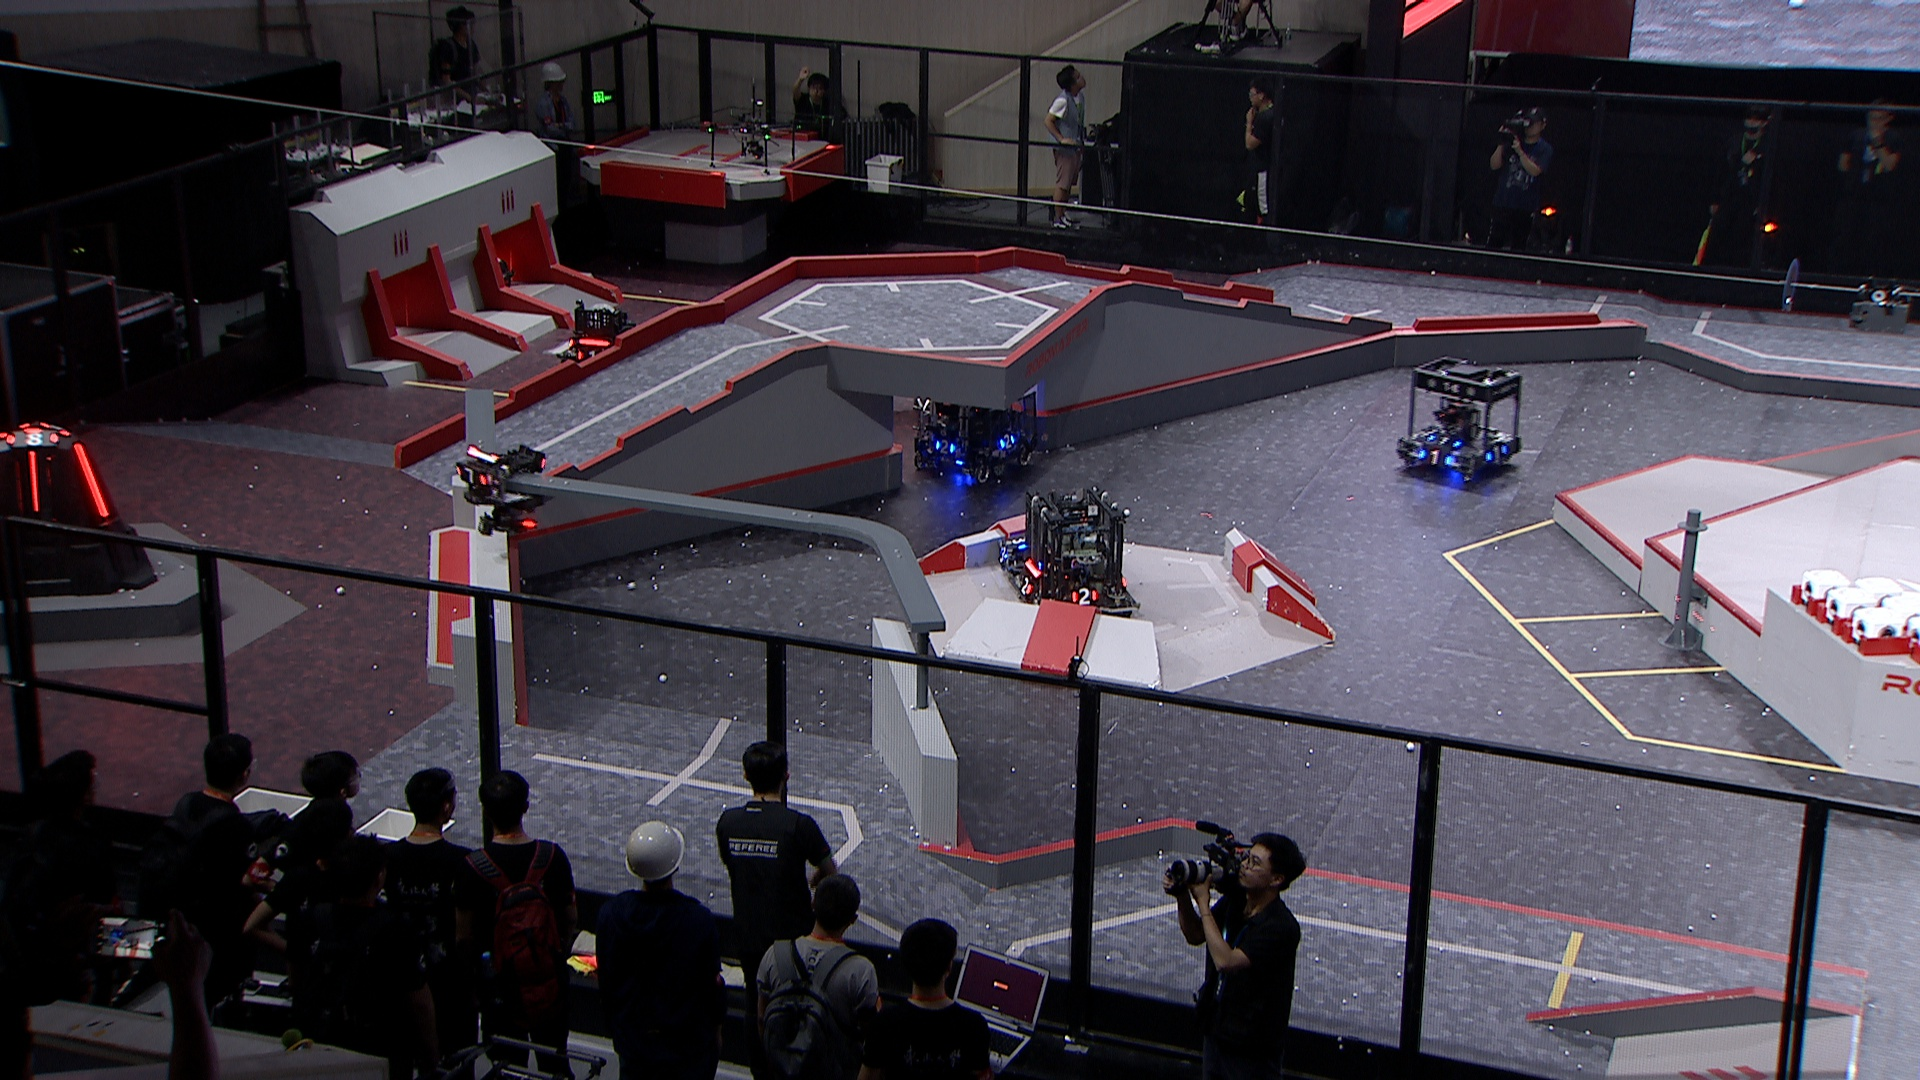armor: (73, 442, 109, 520), (26, 450, 40, 513), (7, 431, 58, 447), (1418, 447, 1447, 469), (1068, 588, 1101, 607), (455, 465, 487, 484), (1486, 442, 1506, 469), (1427, 431, 1461, 447), (1015, 578, 1035, 595), (575, 347, 596, 363), (934, 439, 955, 455), (998, 433, 1019, 447), (1011, 534, 1027, 550), (997, 545, 1010, 562)
car: (1011, 480, 1143, 622), (1394, 353, 1523, 491), (907, 365, 1043, 488), (553, 301, 655, 381), (986, 509, 1063, 585), (476, 239, 546, 305)
watcher: (448, 439, 553, 537)
